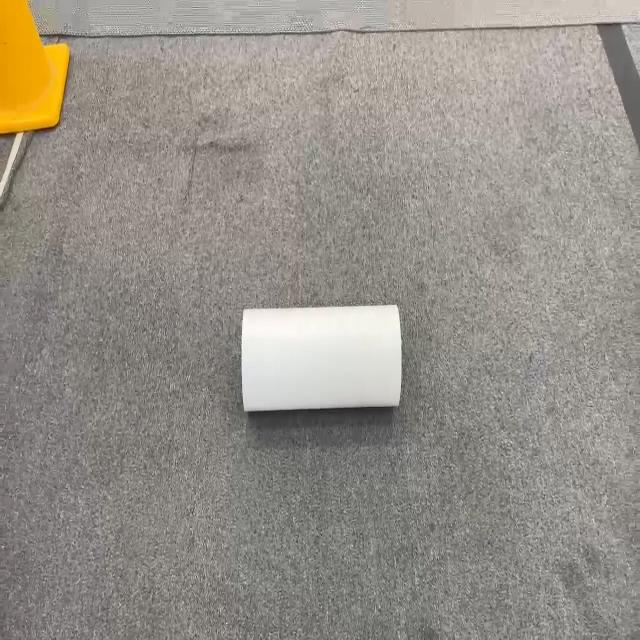coral: (240, 302, 402, 414)
